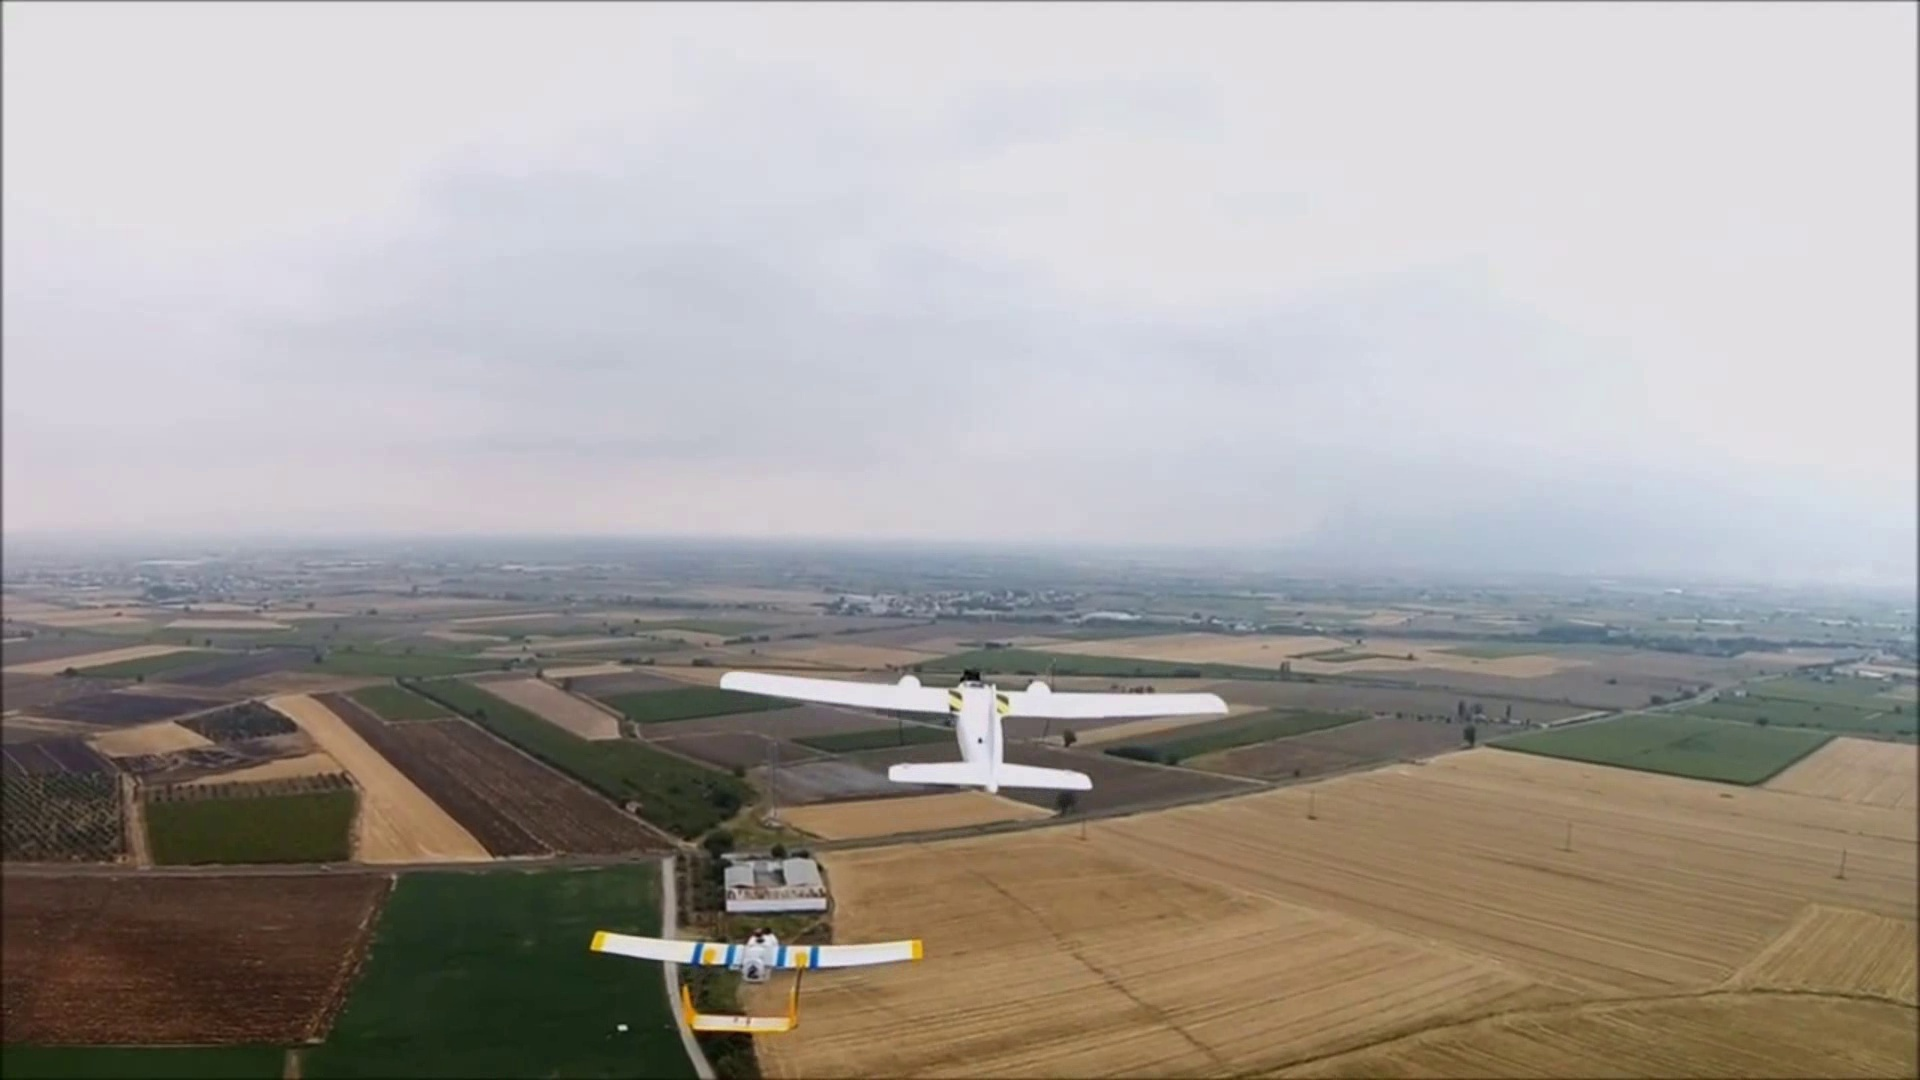airplane: (696, 651, 1233, 804)
